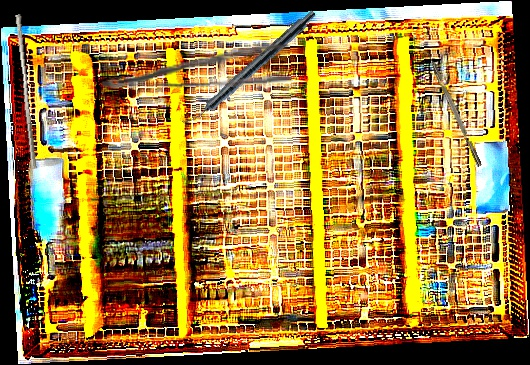Chopper: (418, 45, 483, 170)
Dressing Forceps: (98, 42, 293, 92)
Handpiece: (180, 5, 319, 133)
Pusher: (10, 13, 43, 170)
